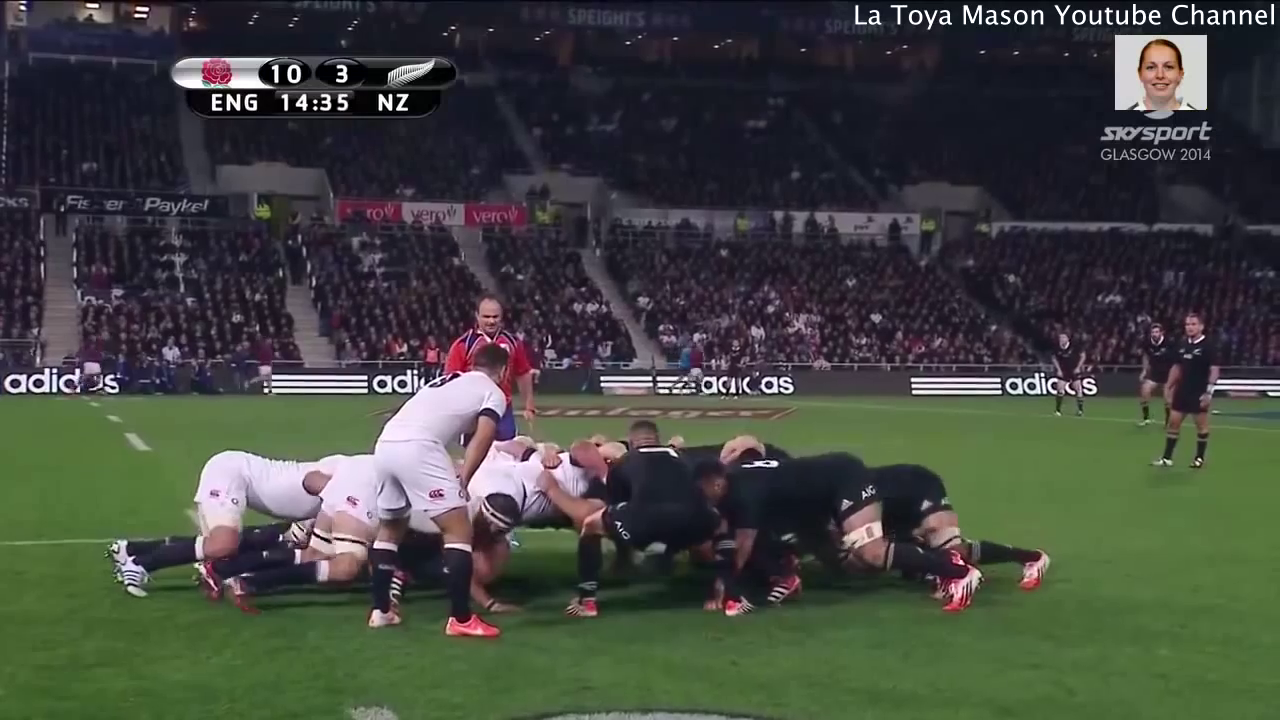player: (360, 346, 516, 643), (696, 456, 993, 610), (579, 418, 734, 616), (105, 441, 315, 583), (1155, 305, 1219, 480), (443, 300, 538, 410), (1040, 326, 1095, 423), (1133, 312, 1170, 427)
scrum: (140, 441, 1049, 621)
